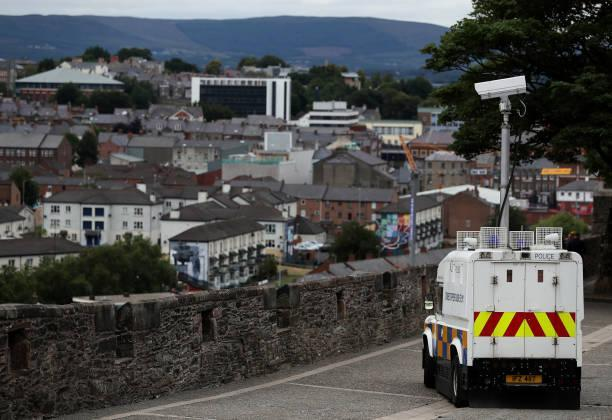camera: (464, 60, 536, 129)
